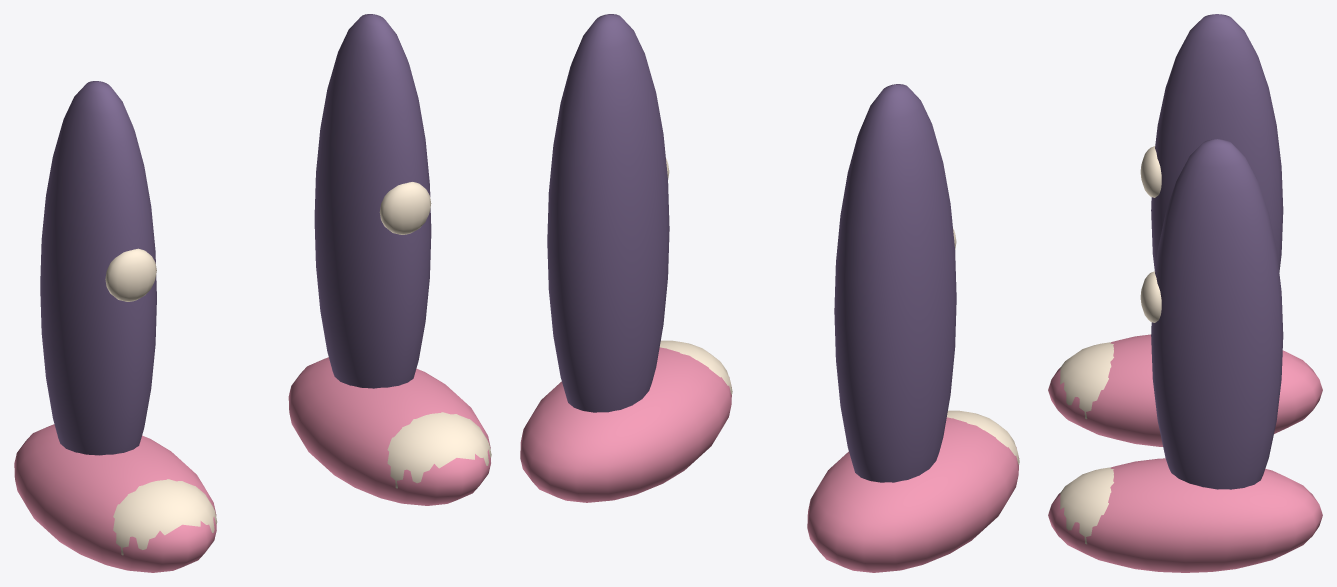
File: legs-tall.glb
The picture shows the model from 3 angles, left to right: view 1: azimuth 30°, elevation 25°; view 2: azimuth 150°, elevation 25°; view 3: azimuth 270°, elevation 25°; orthographic projection. The views are drawn at different scales.
Visible parts, largest first — view 1: CMP_Critter_Legs_Tall_Leg_L, CMP_Critter_Legs_Tall_Leg_R, CMP_Critter_Legs_Tall_Shoe_L, CMP_Critter_Legs_Tall_Shoe_R, CMP_Critter_Legs_Tall_Toe_L, CMP_Critter_Legs_Tall_Toe_R, CMP_Critter_Legs_Tall_Knee_L, CMP_Critter_Legs_Tall_Knee_R; view 2: CMP_Critter_Legs_Tall_Leg_L, CMP_Critter_Legs_Tall_Leg_R, CMP_Critter_Legs_Tall_Shoe_R, CMP_Critter_Legs_Tall_Shoe_L, CMP_Critter_Legs_Tall_Toe_L, CMP_Critter_Legs_Tall_Toe_R; view 3: CMP_Critter_Legs_Tall_Leg_R, CMP_Critter_Legs_Tall_Shoe_R, CMP_Critter_Legs_Tall_Leg_L, CMP_Critter_Legs_Tall_Shoe_L, CMP_Critter_Legs_Tall_Toe_L, CMP_Critter_Legs_Tall_Toe_R, CMP_Critter_Legs_Tall_Knee_L, CMP_Critter_Legs_Tall_Knee_R.
Boxes of the visible parts, x1,y1,x2,y2 form: CMP_Critter_Legs_Tall_Leg_L: [40, 81, 156, 455]; CMP_Critter_Legs_Tall_Leg_R: [314, 14, 431, 388]; CMP_Critter_Legs_Tall_Shoe_L: [14, 424, 216, 572]; CMP_Critter_Legs_Tall_Shoe_R: [288, 357, 490, 505]; CMP_Critter_Legs_Tall_Toe_L: [113, 479, 217, 555]; CMP_Critter_Legs_Tall_Toe_R: [387, 412, 491, 488]; CMP_Critter_Legs_Tall_Knee_L: [105, 248, 156, 301]; CMP_Critter_Legs_Tall_Knee_R: [379, 182, 431, 234]; CMP_Critter_Legs_Tall_Leg_L: [834, 84, 956, 482]; CMP_Critter_Legs_Tall_Leg_R: [547, 14, 669, 412]; CMP_Critter_Legs_Tall_Shoe_R: [520, 347, 731, 502]; CMP_Critter_Legs_Tall_Shoe_L: [807, 417, 1019, 572]; CMP_Critter_Legs_Tall_Toe_L: [947, 410, 1019, 464]; CMP_Critter_Legs_Tall_Toe_R: [659, 340, 732, 394]; CMP_Critter_Legs_Tall_Leg_R: [1151, 139, 1283, 489]; CMP_Critter_Legs_Tall_Shoe_R: [1048, 458, 1322, 572]; CMP_Critter_Legs_Tall_Leg_L: [1151, 14, 1283, 272]; CMP_Critter_Legs_Tall_Shoe_L: [1048, 334, 1322, 446]; CMP_Critter_Legs_Tall_Toe_L: [1060, 342, 1113, 419]; CMP_Critter_Legs_Tall_Toe_R: [1060, 467, 1113, 544]; CMP_Critter_Legs_Tall_Knee_L: [1140, 146, 1161, 197]; CMP_Critter_Legs_Tall_Knee_R: [1140, 271, 1161, 322].
Bounding box in the file's own units: 1.7 × 1.77 × 1.04.
